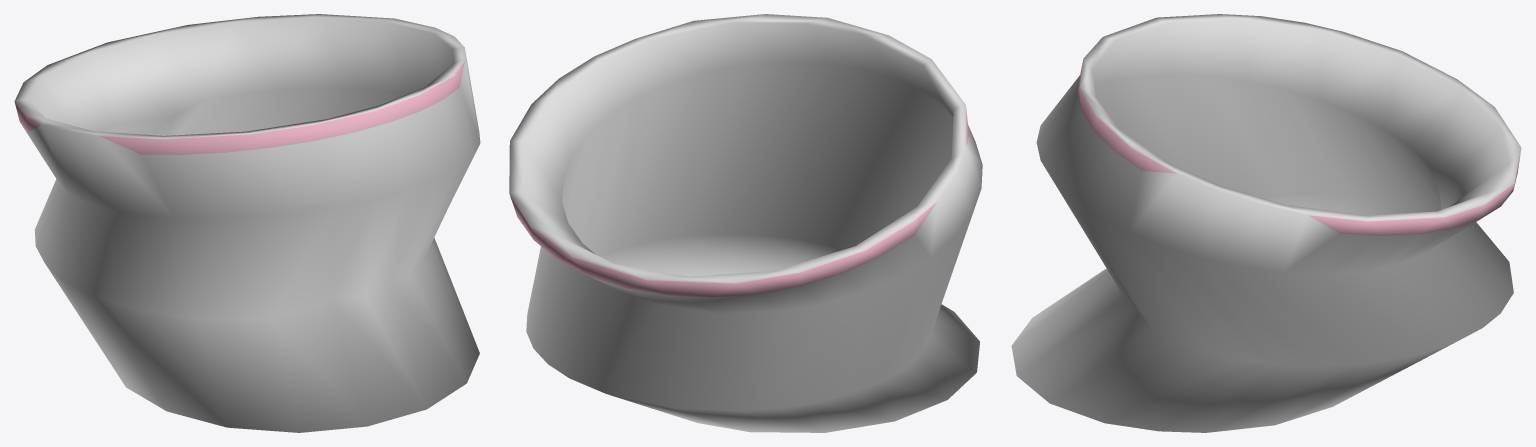
Rendered from casa zgazena2.fbx.
The picture shows the model from 3 angles, left to right: view 1: azimuth 30°, elevation 25°; view 2: azimuth 150°, elevation 25°; view 3: azimuth 270°, elevation 25°; orthographic projection. The views are drawn at different scales.
Visible parts, largest first — view 1: cup zguzvan3.001; view 2: cup zguzvan3.001; view 3: cup zguzvan3.001.
Boxes of the visible parts, x1,y1,x2,y2 form: cup zguzvan3.001: (14,14,480,432); cup zguzvan3.001: (509,14,982,432); cup zguzvan3.001: (1011,14,1521,432).
Bounding box in the file's own units: 22.81 × 15.45 × 25.62.
